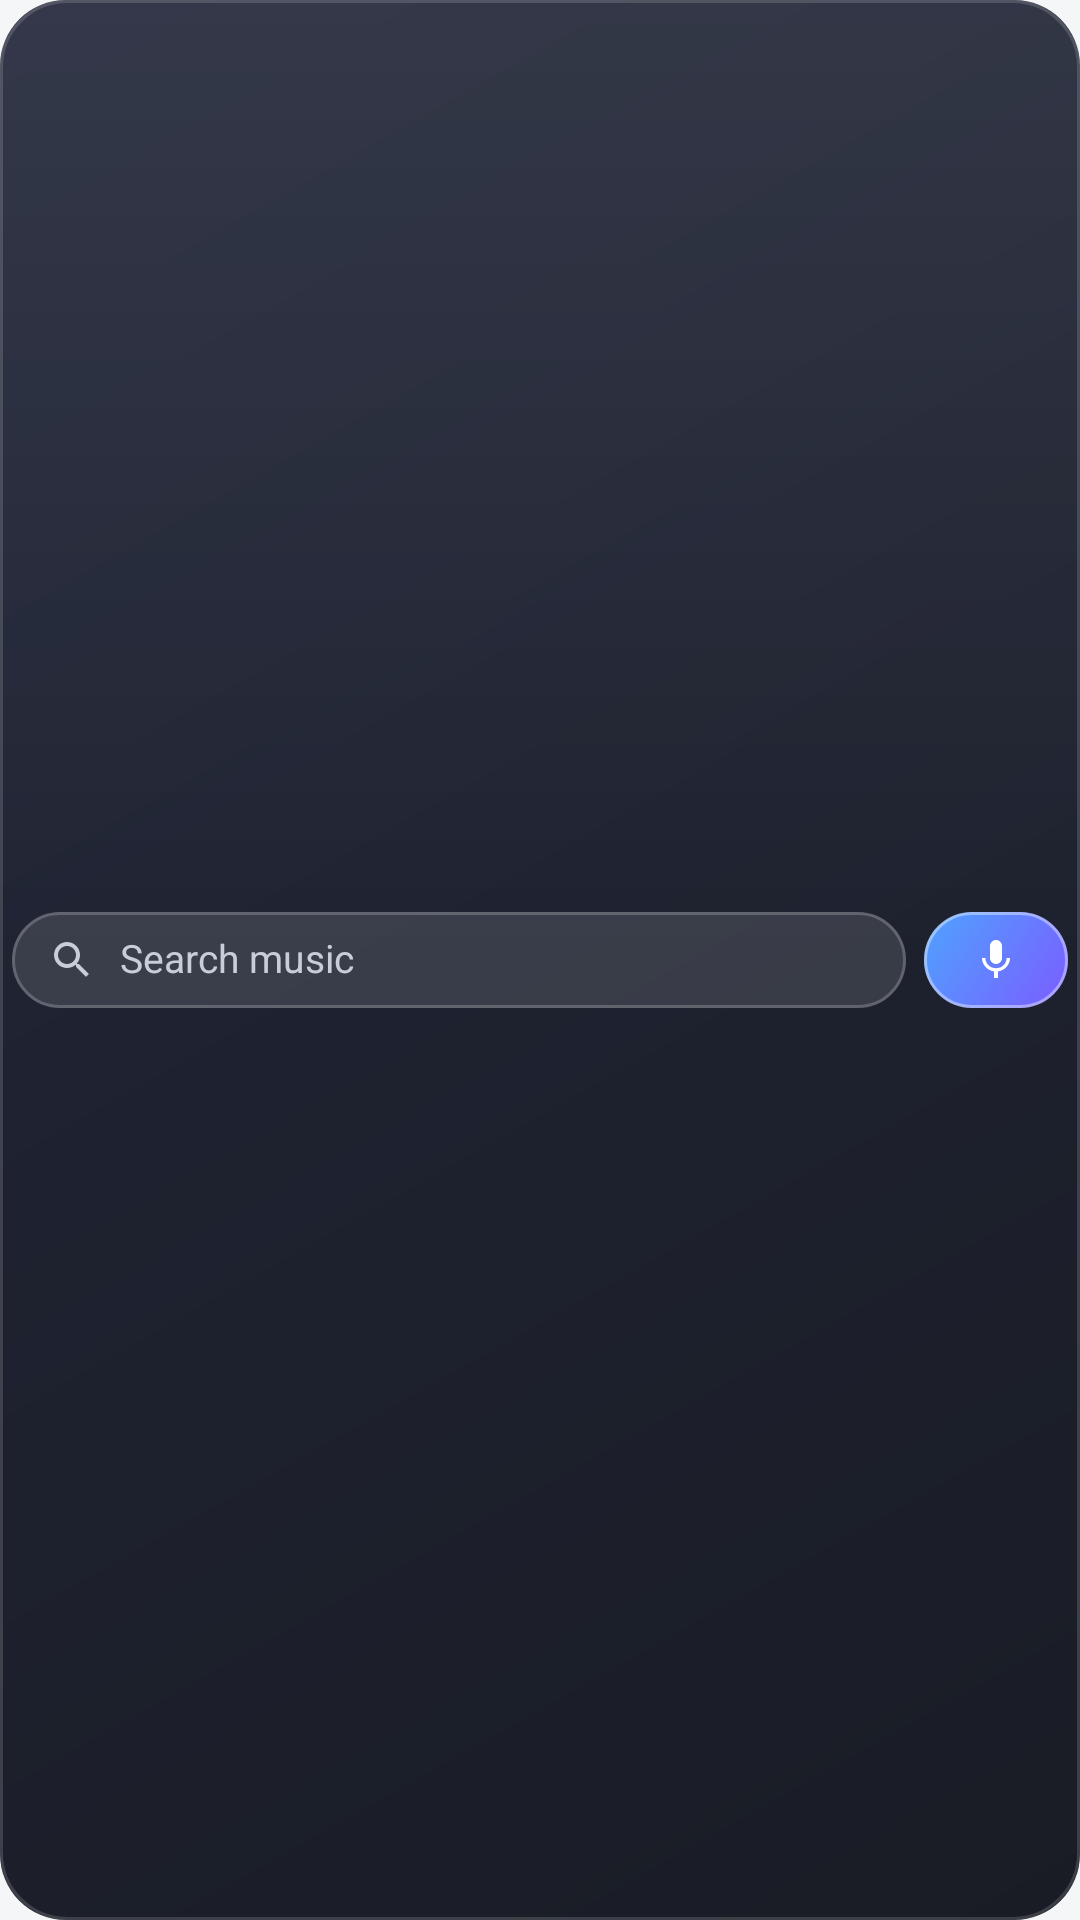

Icon click points for this 1080×1920 phone screenshot, format [x,y]:
Detect song: [996,960]
widget search: [71,959]
